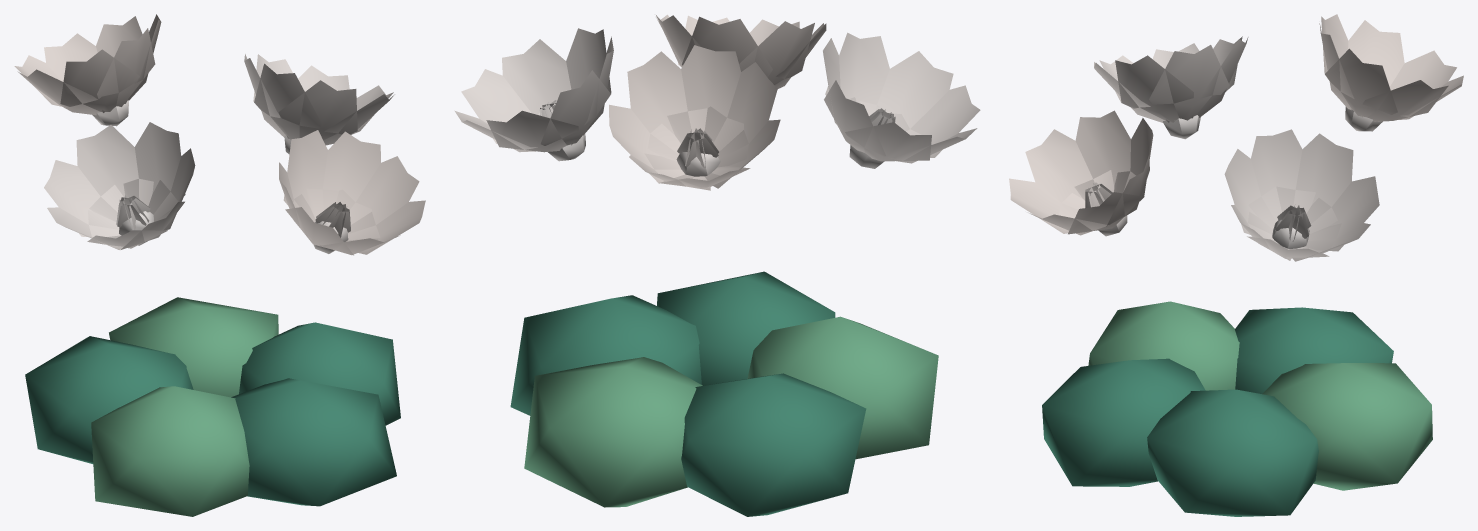
File: peony_white.glb
3 views of the same model, side by side, from view 1: azimuth 30°, elevation 25°; view 2: azimuth 150°, elevation 25°; view 3: azimuth 270°, elevation 25° (orthographic). The views are drawn at different scales.
Parts seen in each view (by area): view 1: peony_white; view 2: peony_white; view 3: peony_white.
Part boxes in pixels (x1,y1,x2,y2): peony_white: [14, 14, 425, 516]; peony_white: [454, 14, 980, 516]; peony_white: [1009, 14, 1463, 516].
Size of what is drawn, in the model's own units: 0.769 by 0.8 by 0.7694.
